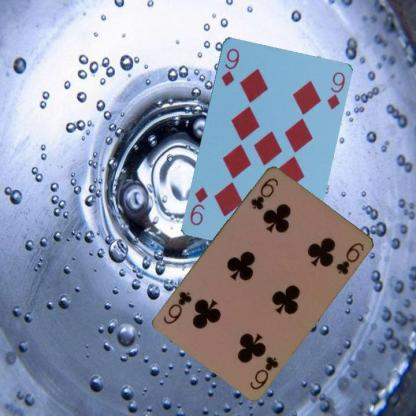6c: (247, 353, 280, 391), (248, 174, 280, 211)
9d: (218, 45, 240, 87)
